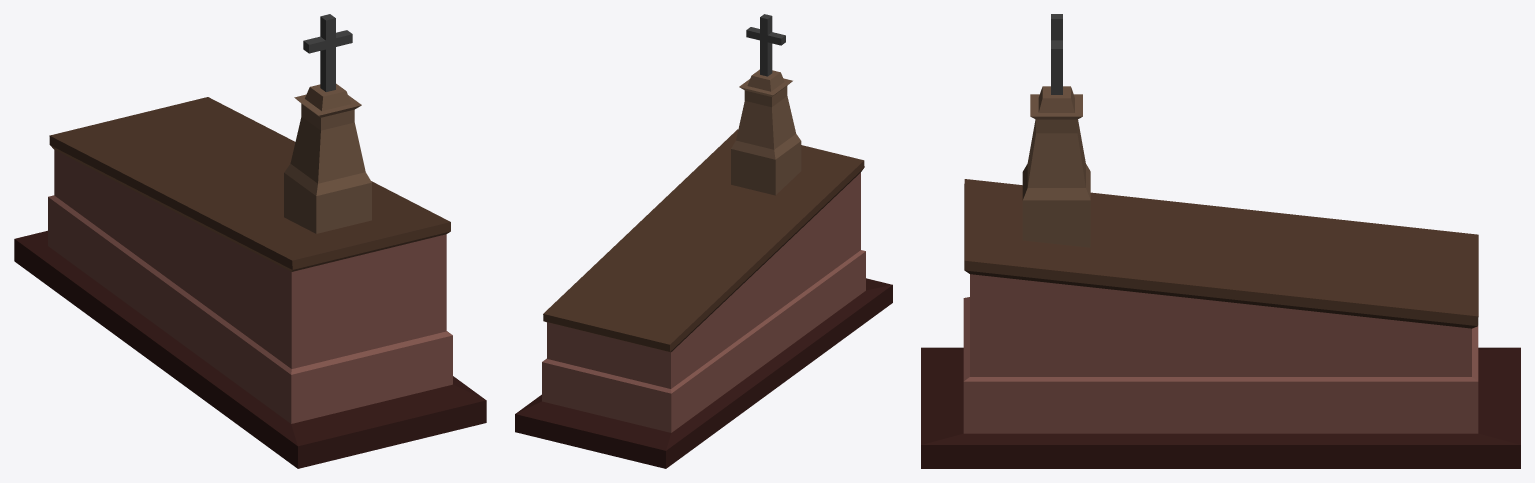
File: Caixao1.fbx
3 renders of one model, left to right at view 1: azimuth 30°, elevation 25°; view 2: azimuth 150°, elevation 25°; view 3: azimuth 270°, elevation 25°, orthographic. The views are drawn at different scales.
Parts seen in each view (by area): view 1: Tumba, Totem, Cruz; view 2: Tumba, Totem, Cruz; view 3: Tumba, Totem, Cruz.
Part boxes in pixels (x1,y1,x2,y2): Tumba: (14,97,486,468); Totem: (284,83,371,233); Cruz: (303,14,352,91); Tumba: (515,129,892,468); Totem: (731,69,801,195); Cruz: (746,14,785,76); Tumba: (921,179,1520,468); Totem: (1022,86,1090,247); Cruz: (1051,14,1062,94).
Size of the model in its own units: 200 by 387 by 521.
